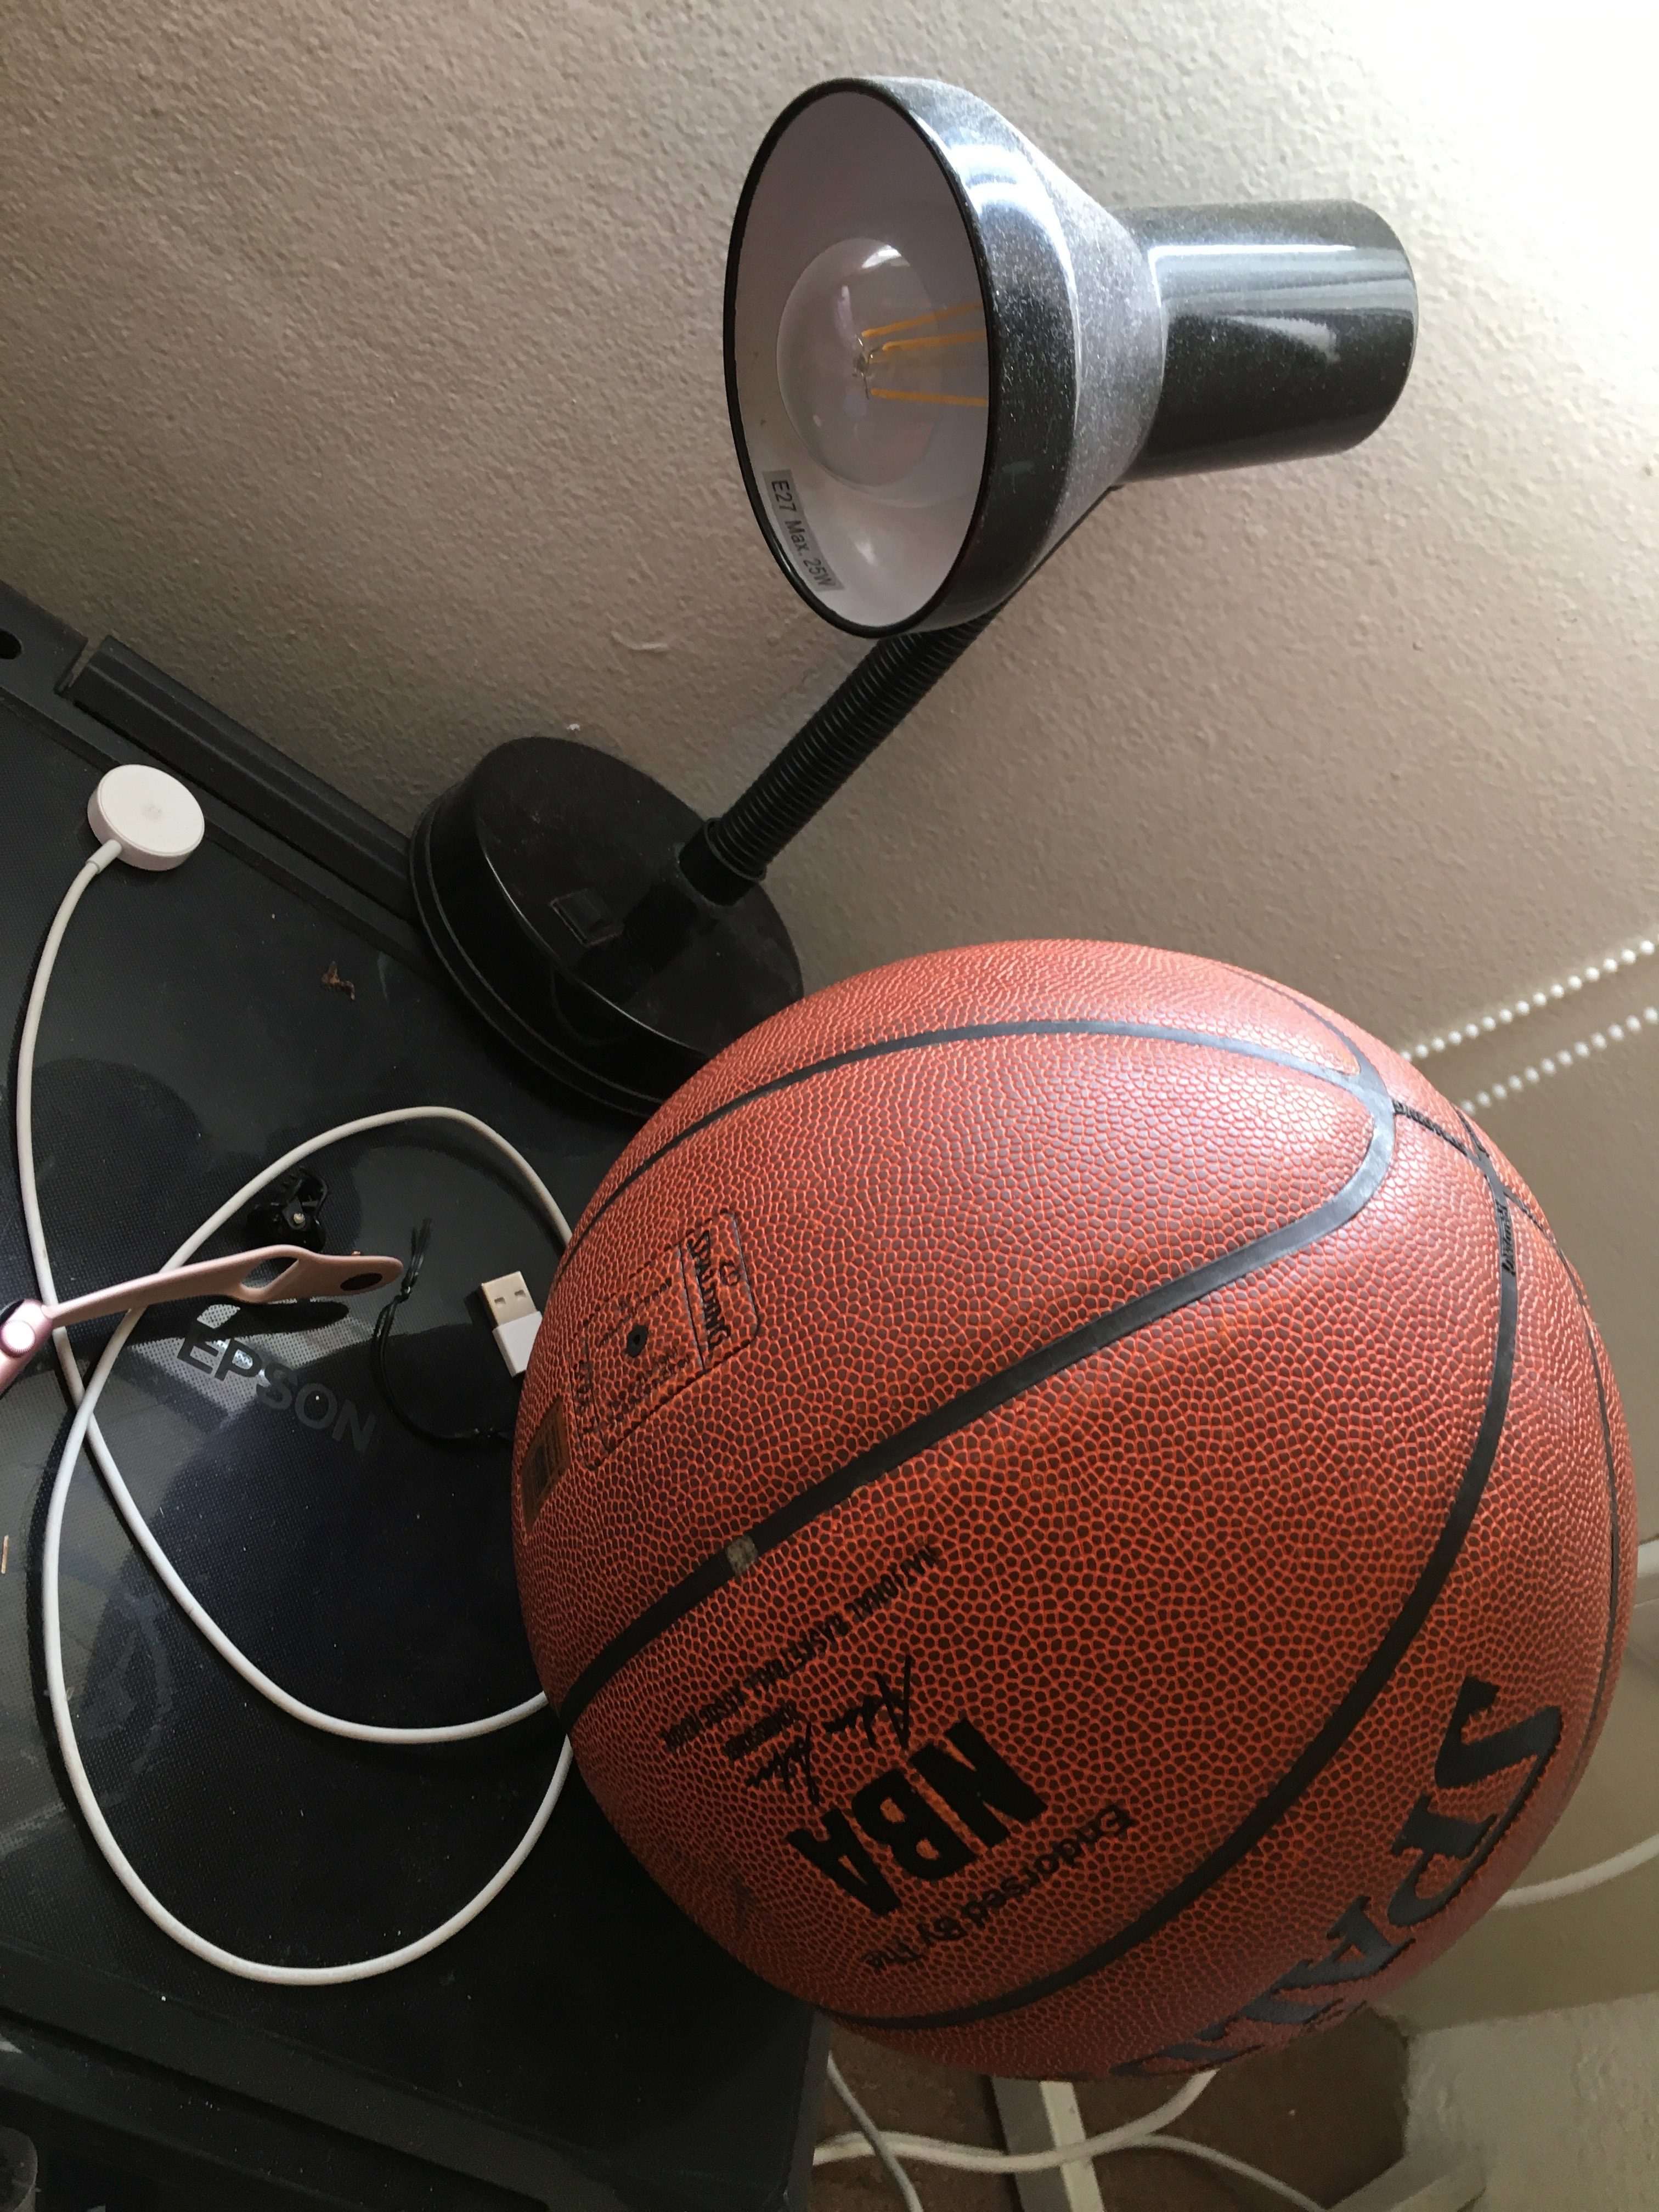Basketball: (477, 914, 1652, 2107)
